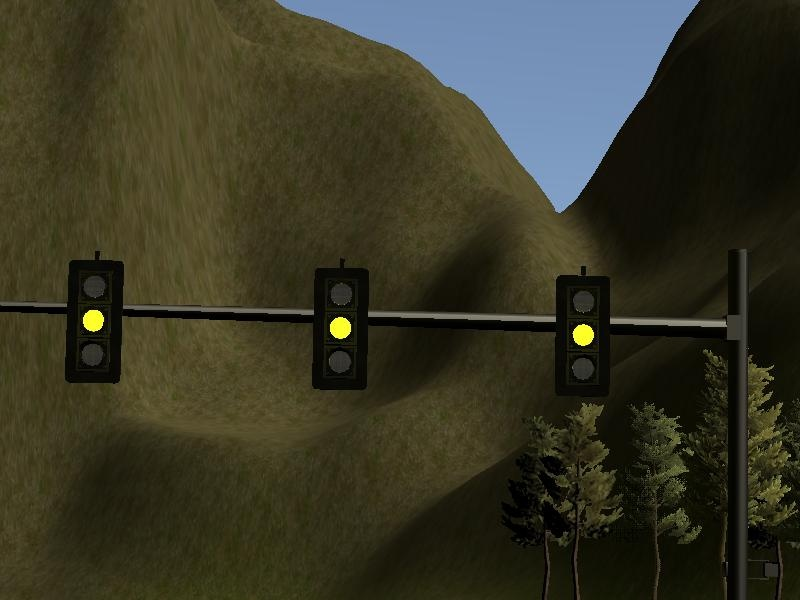YELLOW: (63, 259, 124, 383), (309, 268, 370, 392), (553, 272, 614, 396)
